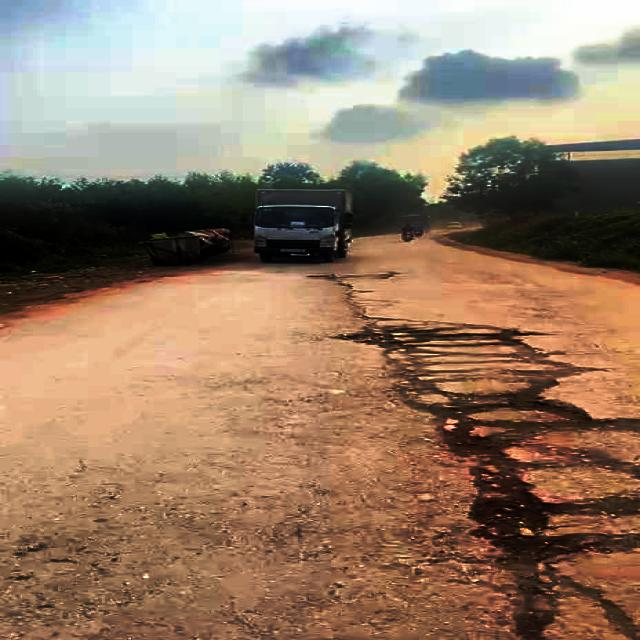pothole: (463, 471, 640, 640), (404, 376, 640, 478), (328, 315, 545, 363)
